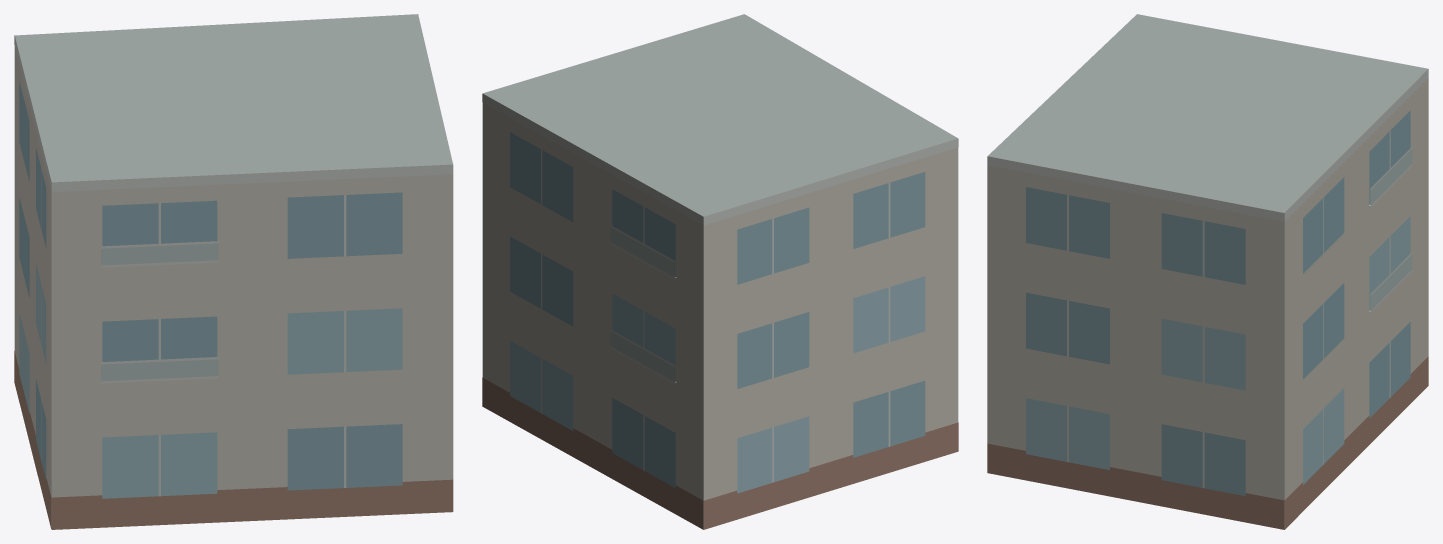
Rendered from survey-upis-32671550.glb.
3 views of the same model, side by side, from view 1: azimuth 30°, elevation 25°; view 2: azimuth 150°, elevation 25°; view 3: azimuth 270°, elevation 25° (orthographic). The views are drawn at different scales.
Parts seen in each view (by area): view 1: survey-upis-32671550.tmp; view 2: survey-upis-32671550.tmp; view 3: survey-upis-32671550.tmp.
Boxes of the visible parts, bbox=[...] form: survey-upis-32671550.tmp: bbox=[14, 14, 453, 529]; survey-upis-32671550.tmp: bbox=[482, 14, 958, 529]; survey-upis-32671550.tmp: bbox=[987, 14, 1428, 529].
Size of the model in its own units: 11.73 by 8.7 by 10.99.
